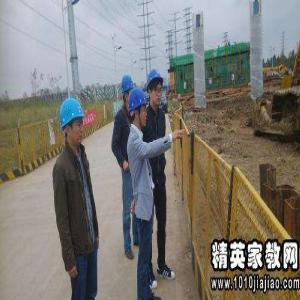blue: (58, 95, 87, 147), (130, 86, 149, 128), (148, 70, 165, 107), (120, 78, 135, 107)
